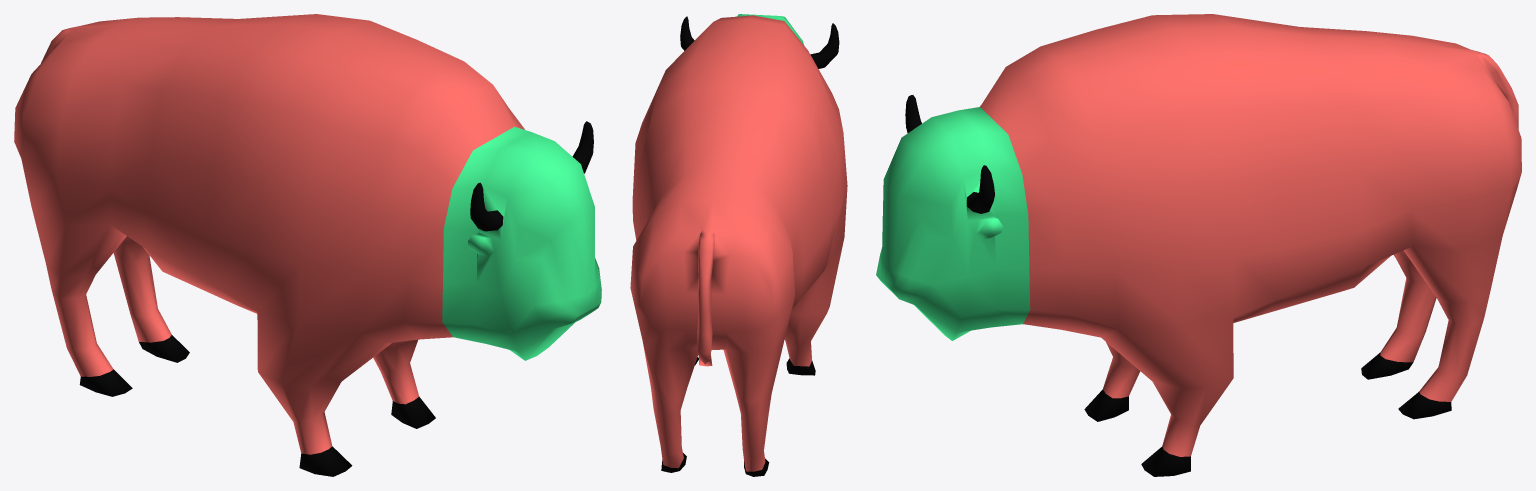
File: ToyObject_126.fbx
3 views of the same model, side by side, from view 1: azimuth 30°, elevation 25°; view 2: azimuth 150°, elevation 25°; view 3: azimuth 270°, elevation 25° (orthographic). The views are drawn at different scales.
Visible parts, largest first — view 1: 1.006; view 2: 1.006; view 3: 1.006.
Part boxes in pixels (box(x1,y1,x2,y2)): 1.006: box(14, 14, 601, 476); 1.006: box(630, 14, 847, 476); 1.006: box(876, 14, 1521, 476).
Size of the model in its own units: 0.1102 by 0.1216 by 0.1761.
